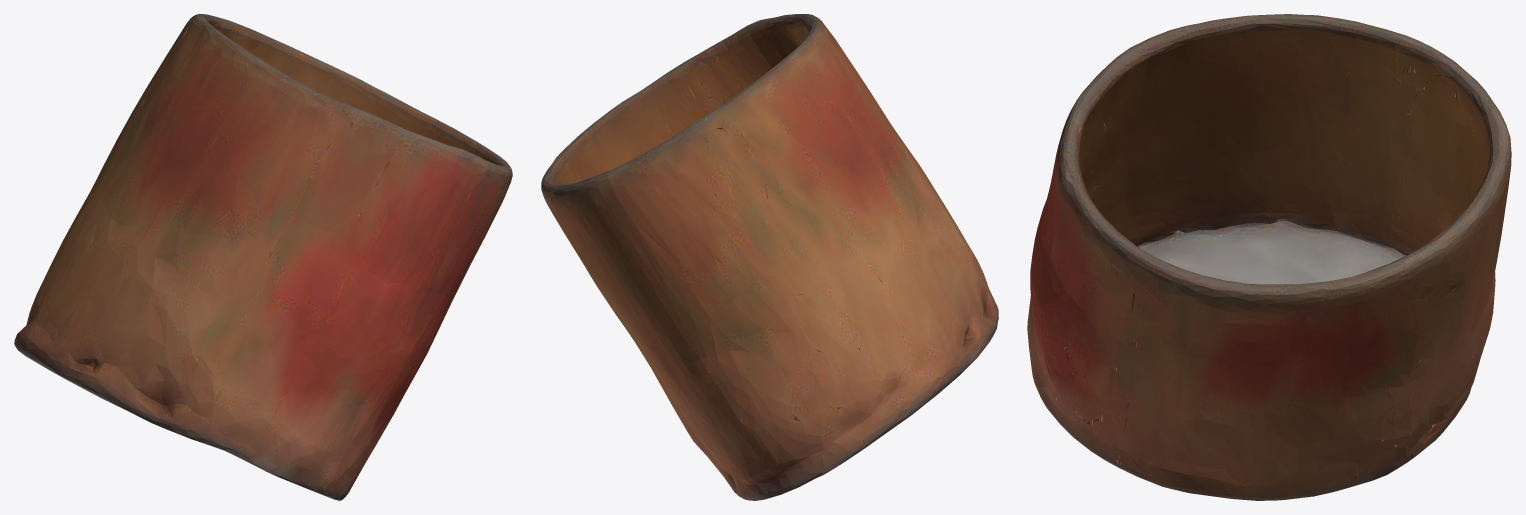
File: yellow_bag_behind_mattress_000.glb
3 renders of one model, left to right at view 1: azimuth 30°, elevation 25°; view 2: azimuth 150°, elevation 25°; view 3: azimuth 270°, elevation 25°, orthographic. The views are drawn at different scales.
Parts seen in each view (by area): view 1: yellow_bag_behind_mattress_000.obj; view 2: yellow_bag_behind_mattress_000.obj; view 3: yellow_bag_behind_mattress_000.obj.
Boxes of the visible parts, box(x1,y1,x2,y2) form: yellow_bag_behind_mattress_000.obj: box(14, 14, 512, 500); yellow_bag_behind_mattress_000.obj: box(541, 14, 998, 500); yellow_bag_behind_mattress_000.obj: box(1027, 14, 1511, 500).
Bounding box in the file's own units: 0.4064 × 0.3944 × 0.3717.
Materials: 1 (1 with a texture image).
